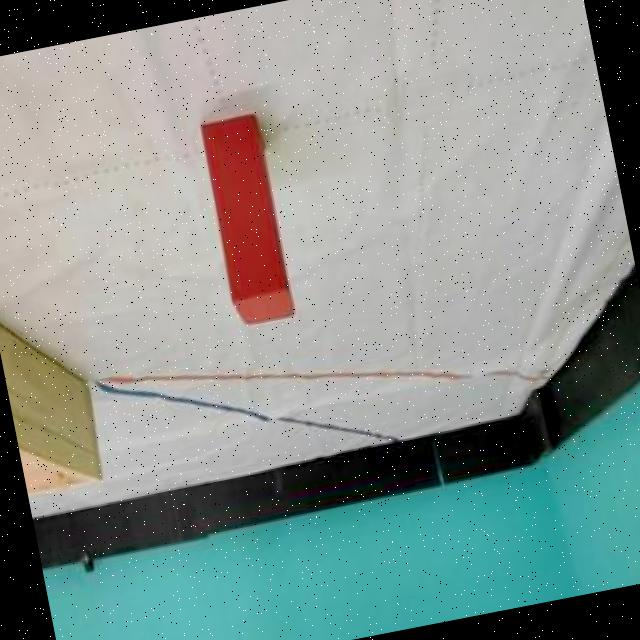redbox: (200, 116, 296, 327)
